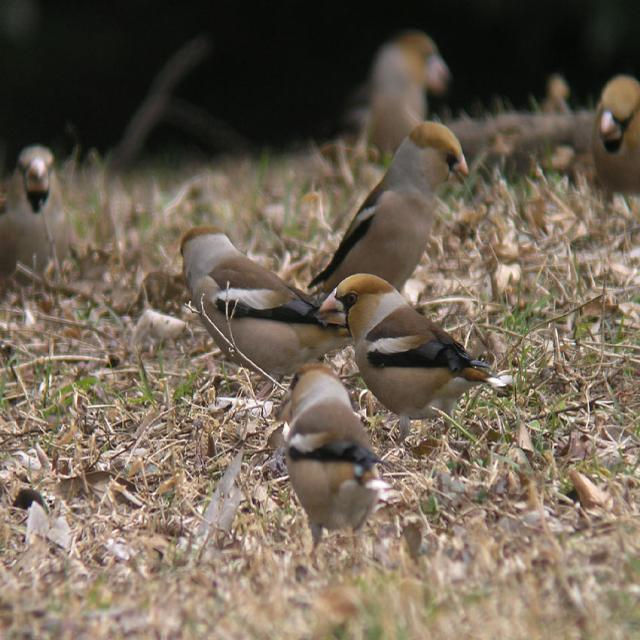bird: (300, 271, 500, 443), (175, 223, 360, 393), (334, 126, 469, 299), (279, 414, 392, 550), (581, 74, 640, 230), (0, 147, 63, 289), (371, 30, 443, 143)
